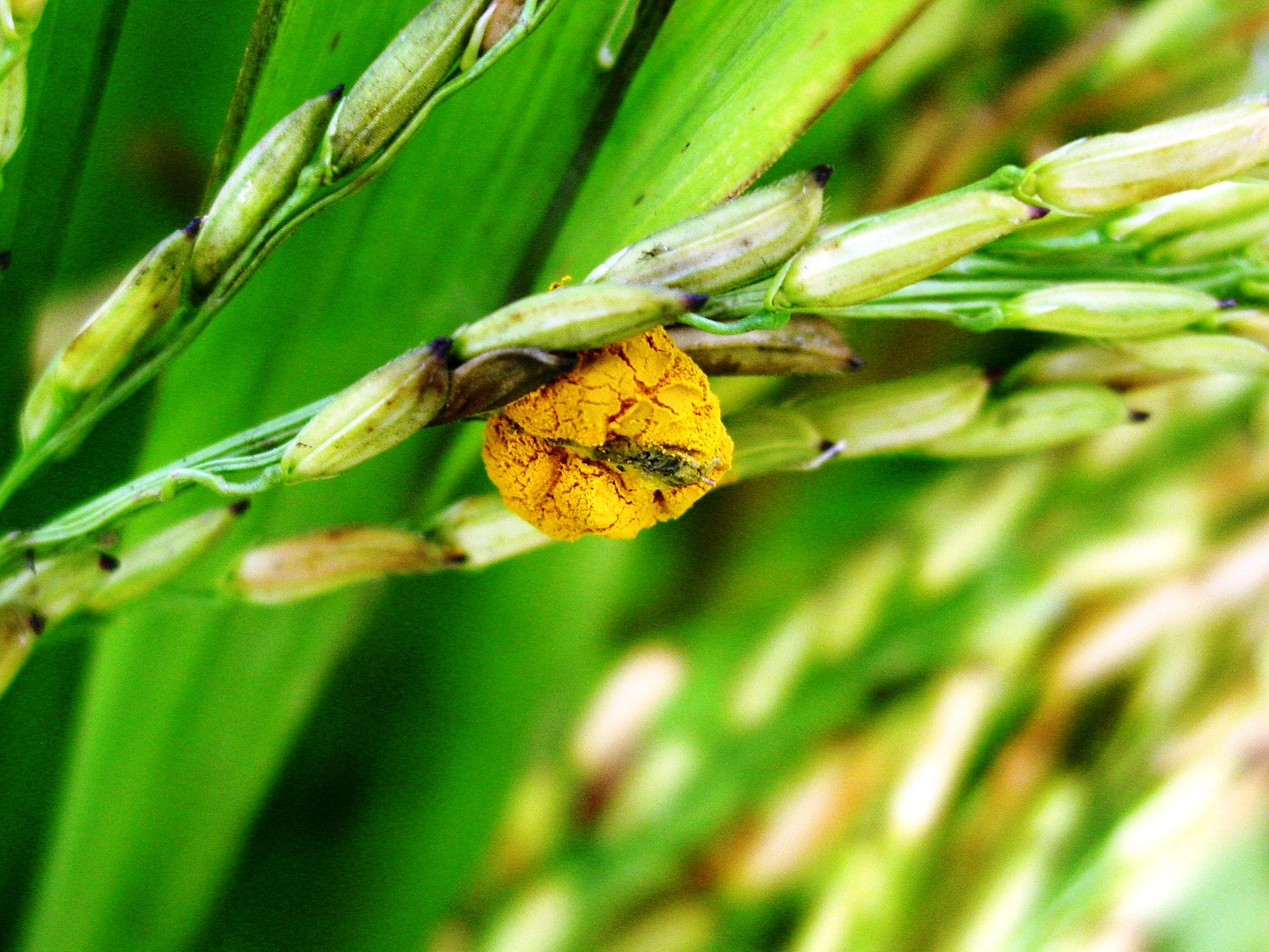False Smut: (475, 318, 748, 548)
